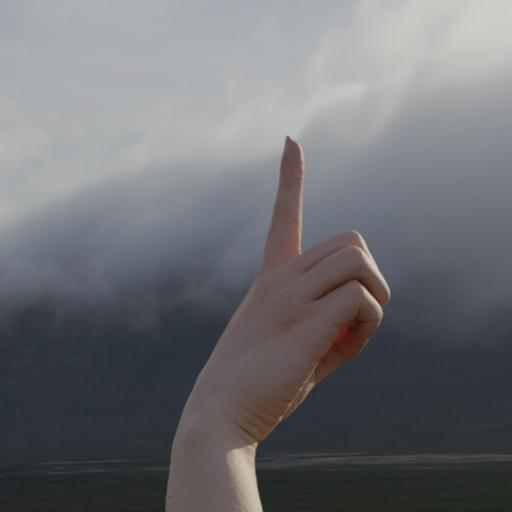D: (155, 128, 404, 502)
